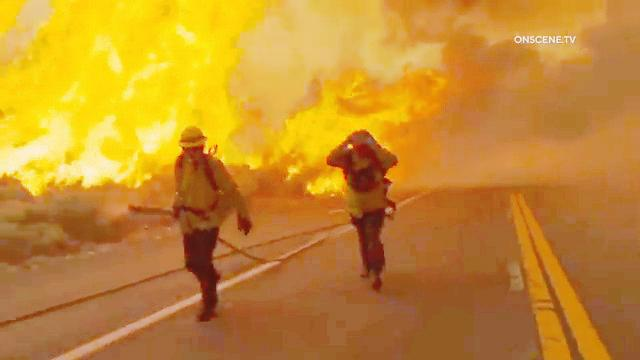fire: (2, 0, 261, 111), (365, 64, 449, 127), (282, 76, 345, 140)
smoke: (469, 58, 628, 146)
